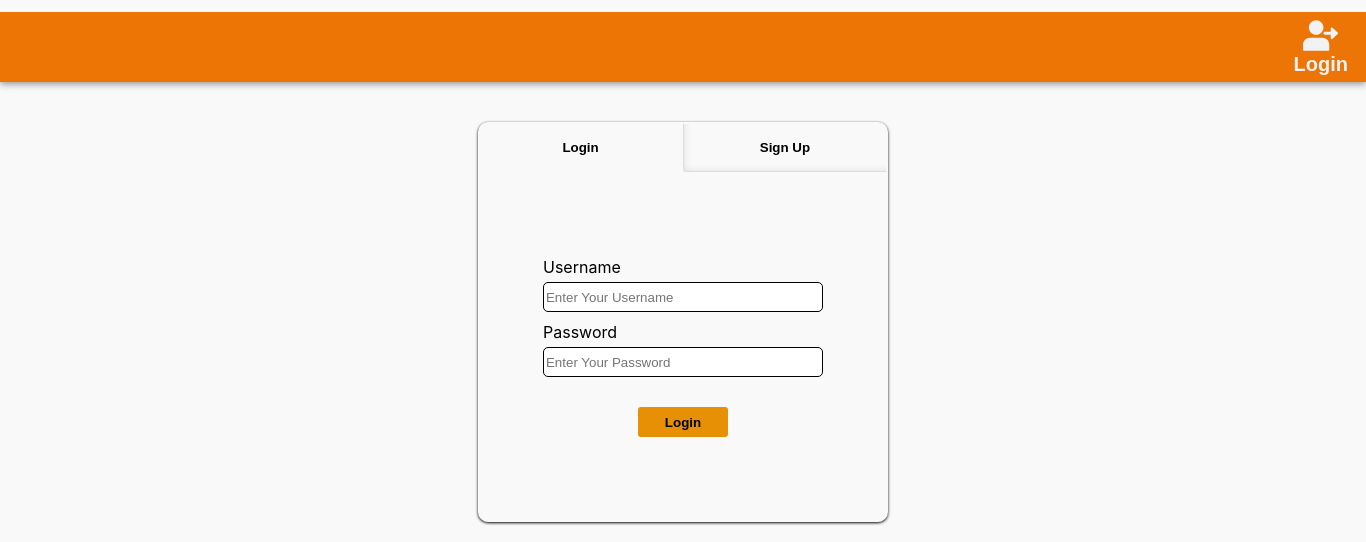
Scenario: Test for auth page › should go to signup section when clicking the signup tab
Click the button "Sign Up": (785, 147) [683,122,888,172]
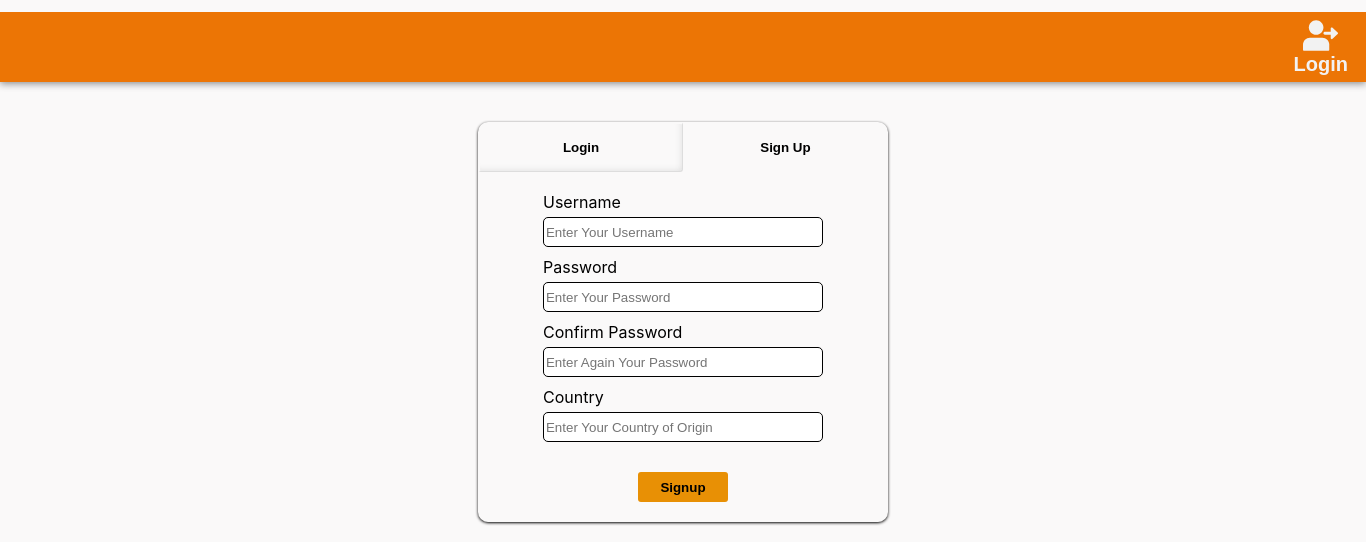
Result: the text "Confirm Password" is shown at [543,322,682,342]
Result: the text "Country" is shown at [543,387,604,407]
Result: the button "Signup" is shown at [638,472,728,502]
